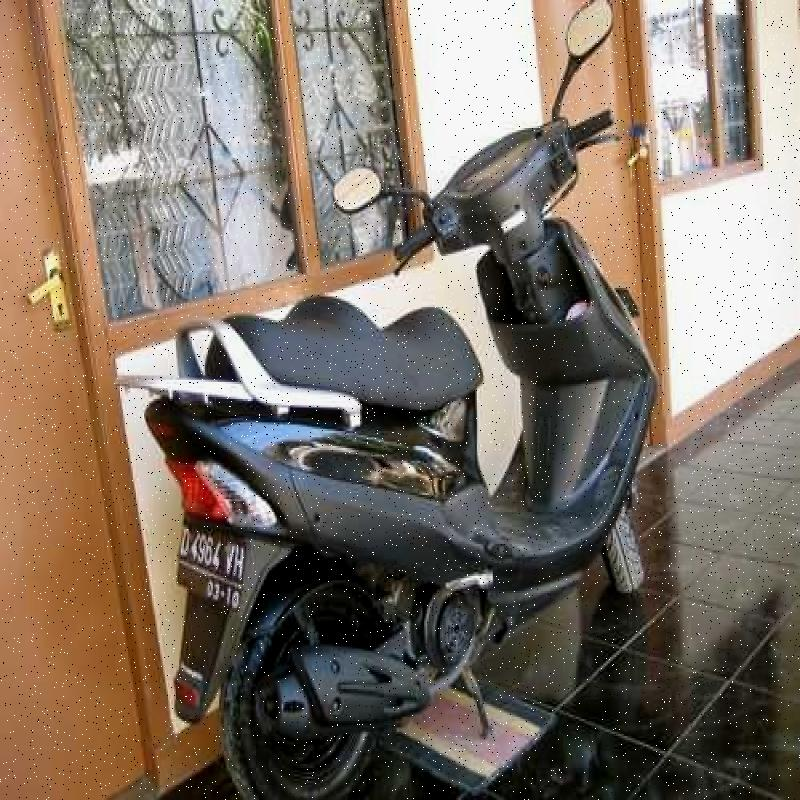bike: (138, 61, 652, 784)
